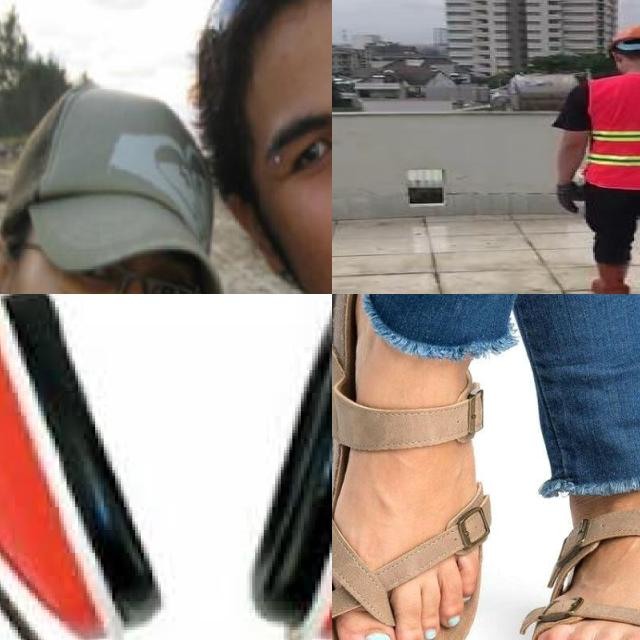Ear-protection: (0, 294, 163, 638), (237, 294, 332, 635)
No_Ear-Protection: (0, 234, 23, 294)
Sandals: (332, 294, 497, 640), (530, 463, 640, 640)
boots: (589, 259, 632, 294)
face_nomask: (263, 65, 332, 288), (43, 254, 198, 294)
glasses: (43, 238, 220, 294)
hand_glove: (556, 183, 586, 213)
head_helmet: (606, 21, 640, 53)
head_nohelmet: (16, 87, 234, 274), (178, 0, 332, 58)
person: (191, 0, 332, 294), (0, 103, 203, 294), (544, 19, 640, 294)
vest: (586, 73, 640, 189)
